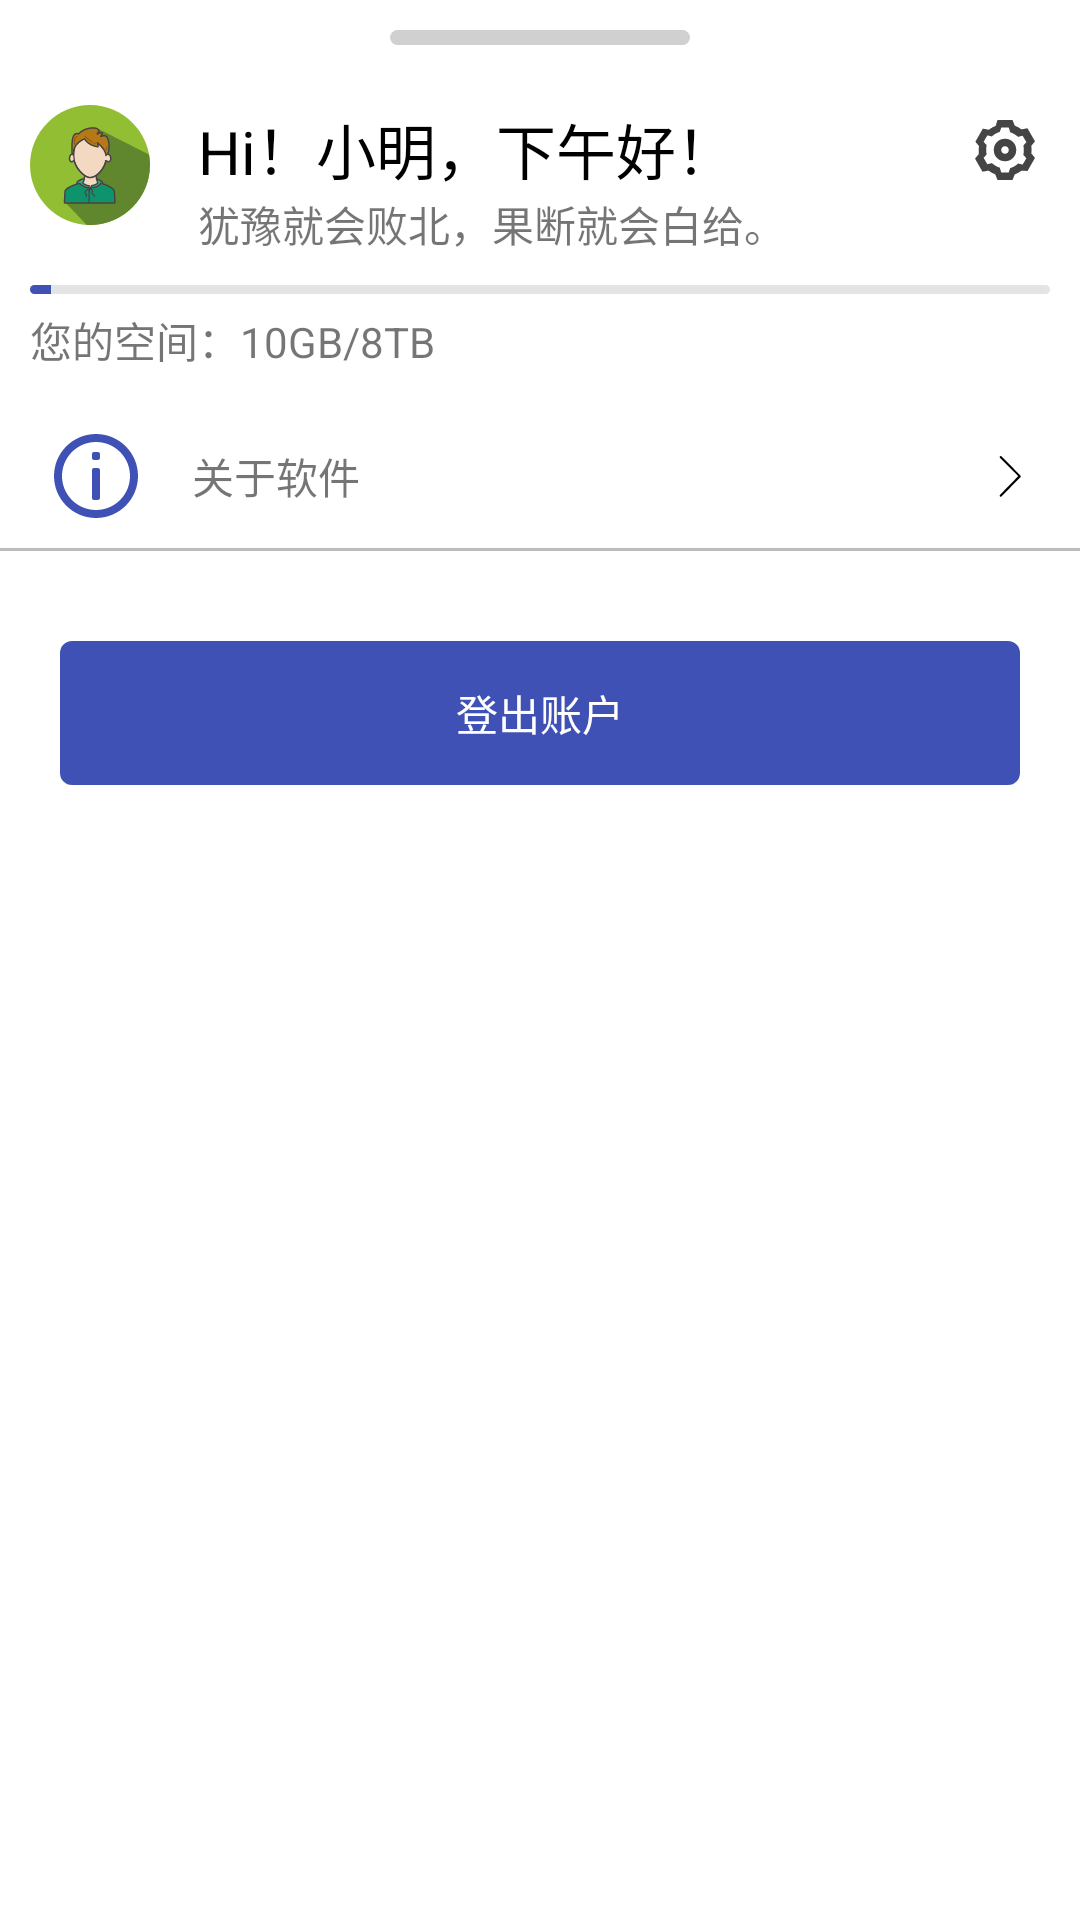

Icon click points for this 1080px×1920px phone screenshot, format (x,y):
about: (96,476)
right: (1010,476)
settings: (1005,150)
user: (90,165)
